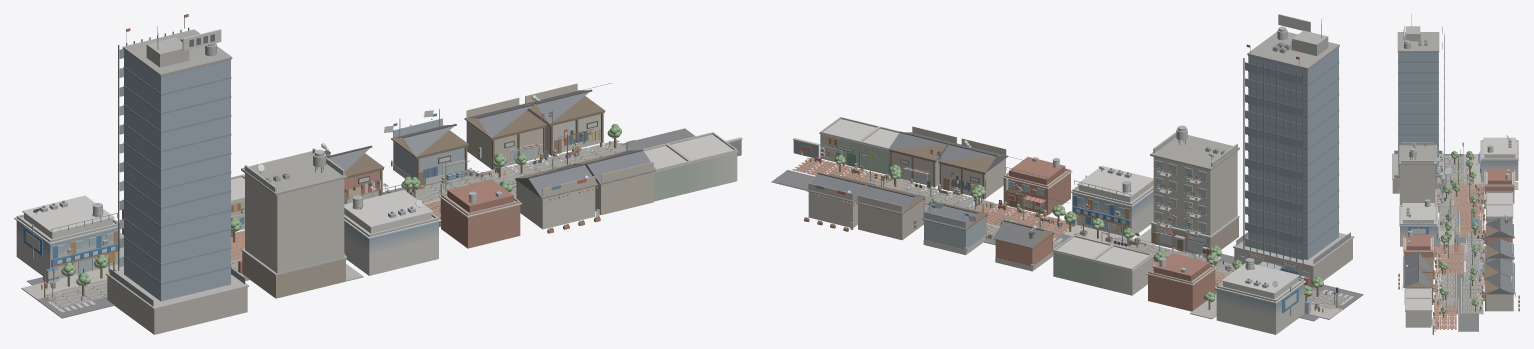
File: mainstreet.glb
The picture shows the model from 3 angles, left to right: view 1: azimuth 30°, elevation 25°; view 2: azimuth 150°, elevation 25°; view 3: azimuth 270°, elevation 25°; orthographic projection. The views are drawn at different scales.
Visible parts, largest first — view 1: geometry_0; view 2: geometry_0; view 3: geometry_0.
Part boxes in pixels (bbox=[...]): geometry_0: bbox=[14, 14, 742, 334]; geometry_0: bbox=[771, 14, 1363, 334]; geometry_0: bbox=[1392, 14, 1519, 334].
Size of the model in its own units: 116 by 47.8 by 34.62.
